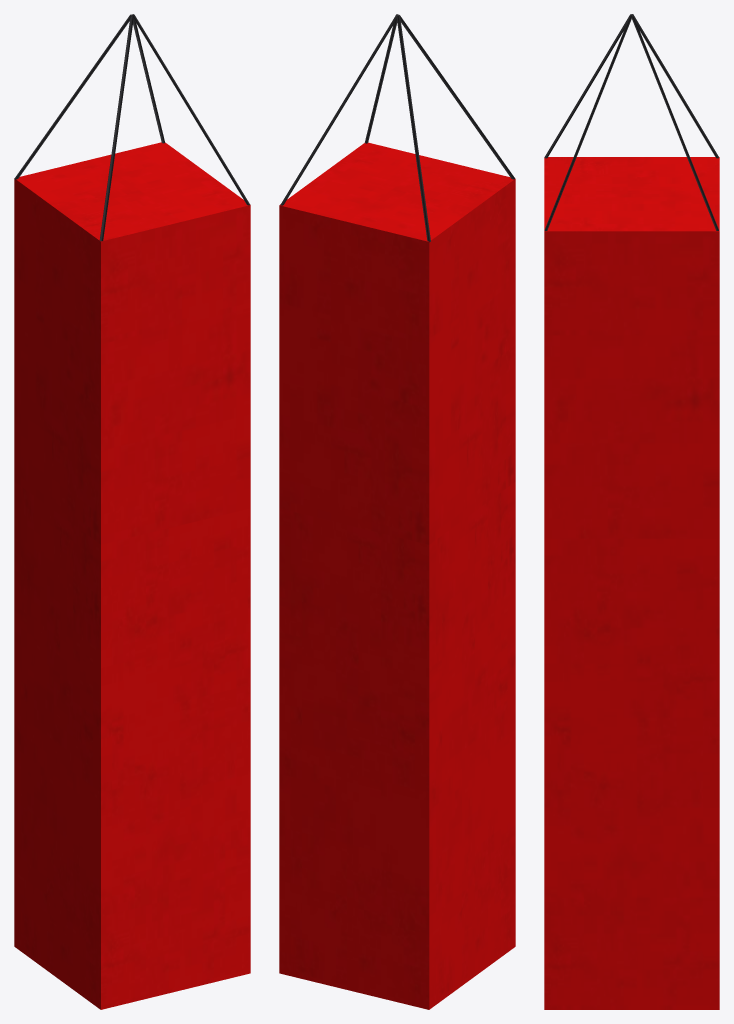
3 renders of one model, left to right at view 1: azimuth 30°, elevation 25°; view 2: azimuth 150°, elevation 25°; view 3: azimuth 270°, elevation 25°, orthographic.
Parts seen in each view (by area): view 1: 붉은 등 3; view 2: 붉은 등 3; view 3: 붉은 등 3.
Part boxes in pixels (x1=…): 붉은 등 3: x1=14, y1=14, x2=250, y2=1009; 붉은 등 3: x1=279, y1=14, x2=515, y2=1009; 붉은 등 3: x1=544, y1=14, x2=719, y2=1009.
Size of the model in its own units: 8.38 by 50.33 by 8.36.
